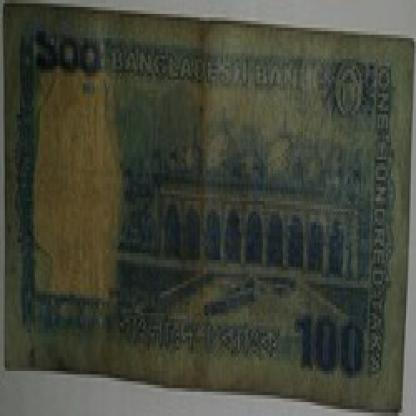Ten Taka: (35, 24, 106, 83)
one hundred taka: (293, 305, 371, 381)
